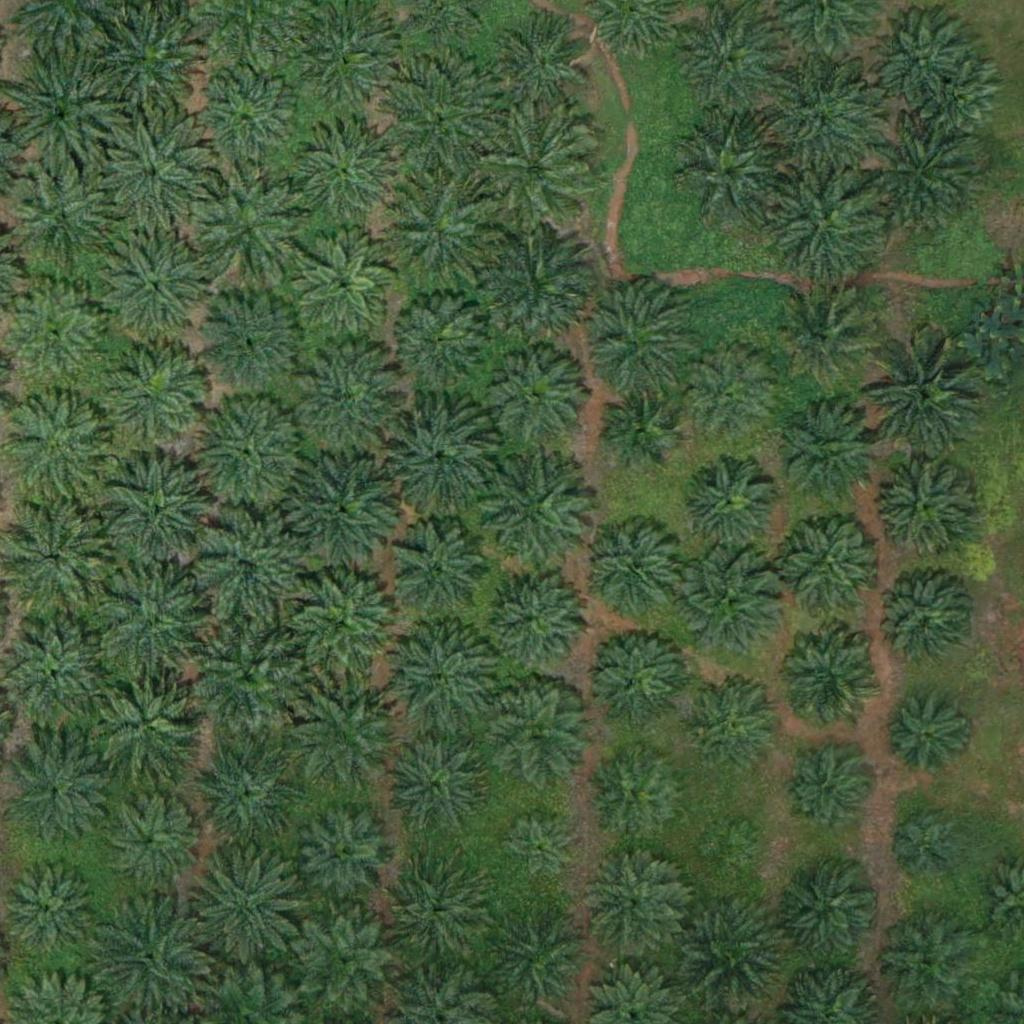Kelapa_Sawit: (476, 111, 589, 225), (580, 285, 693, 399), (772, 506, 885, 620), (670, 545, 783, 659), (95, 895, 208, 1009), (1, 739, 114, 853), (2, 392, 115, 505), (87, 2, 200, 115), (190, 64, 303, 177), (194, 171, 307, 284), (191, 285, 304, 398), (294, 339, 407, 452), (286, 449, 399, 562), (765, 65, 878, 178), (867, 127, 980, 240), (771, 856, 884, 969), (387, 624, 500, 737), (288, 570, 401, 683), (99, 569, 212, 682), (90, 668, 203, 781), (289, 111, 401, 225), (384, 63, 496, 177), (381, 171, 493, 285), (481, 224, 593, 338), (478, 339, 590, 453), (870, 342, 982, 455), (5, 60, 117, 173), (7, 162, 119, 275), (96, 121, 208, 234), (97, 232, 209, 345), (102, 456, 214, 569), (190, 399, 302, 512), (191, 511, 303, 624), (382, 392, 494, 505), (480, 457, 592, 570), (674, 116, 786, 229), (770, 169, 882, 282), (775, 400, 887, 513), (673, 893, 785, 1006), (290, 681, 402, 794), (193, 621, 305, 734), (189, 733, 301, 846), (191, 845, 303, 958), (780, 290, 880, 391), (680, 13, 780, 114), (3, 283, 103, 384), (103, 343, 203, 444), (293, 230, 393, 331), (388, 521, 488, 622), (488, 17, 588, 118), (874, 456, 974, 557), (876, 912, 976, 1013), (687, 675, 787, 776), (585, 624, 685, 725), (589, 743, 689, 844), (581, 851, 681, 952), (485, 569, 585, 670), (486, 681, 586, 782), (488, 907, 588, 1008), (386, 730, 486, 831), (383, 863, 483, 964), (296, 807, 396, 908), (296, 910, 396, 1011), (389, 287, 489, 387), (578, 520, 678, 620), (680, 343, 780, 443), (677, 455, 777, 555), (876, 570, 976, 670), (777, 630, 877, 730), (100, 789, 200, 889), (881, 694, 969, 782), (876, 16, 963, 104), (911, 56, 998, 144), (783, 746, 870, 834), (601, 389, 676, 465), (499, 813, 574, 888), (894, 814, 957, 877), (696, 817, 758, 880)
